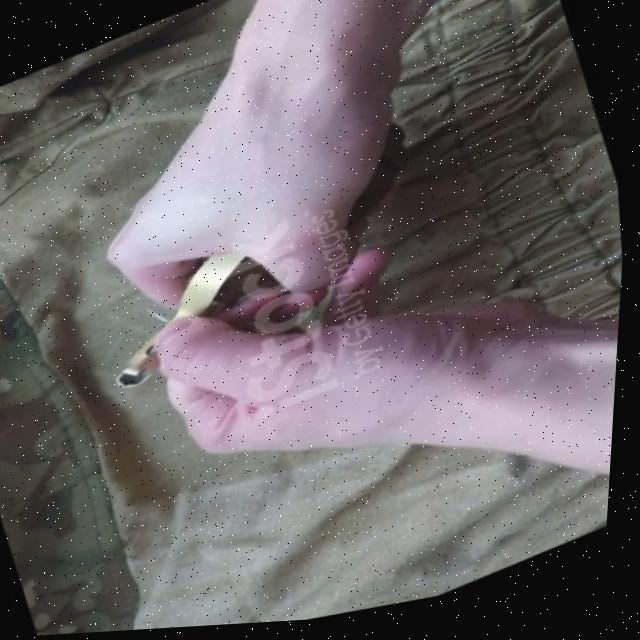grenade: (59, 114, 460, 399)
